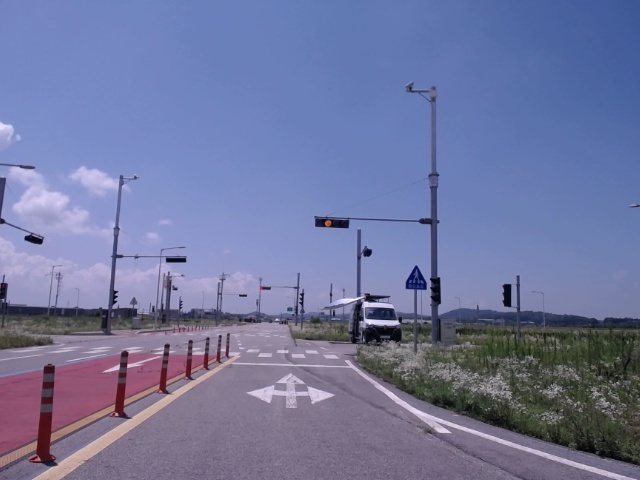orange_4: (315, 215, 350, 230)
